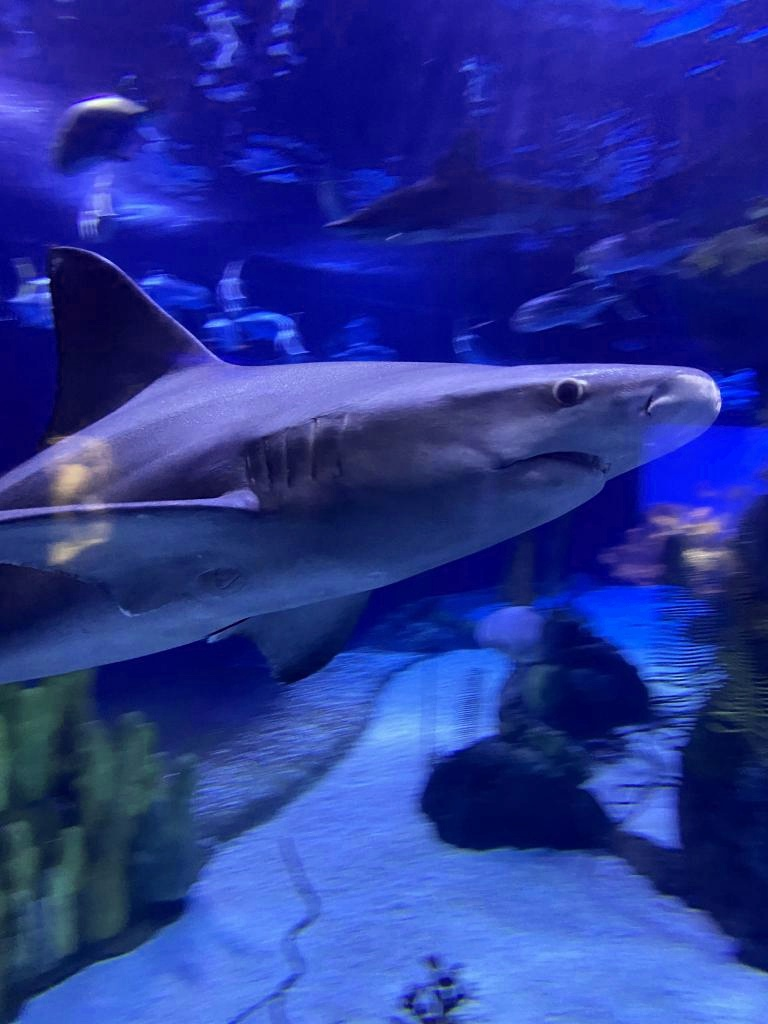fish: (46, 89, 164, 179)
shark: (0, 244, 724, 684), (320, 135, 714, 251)
